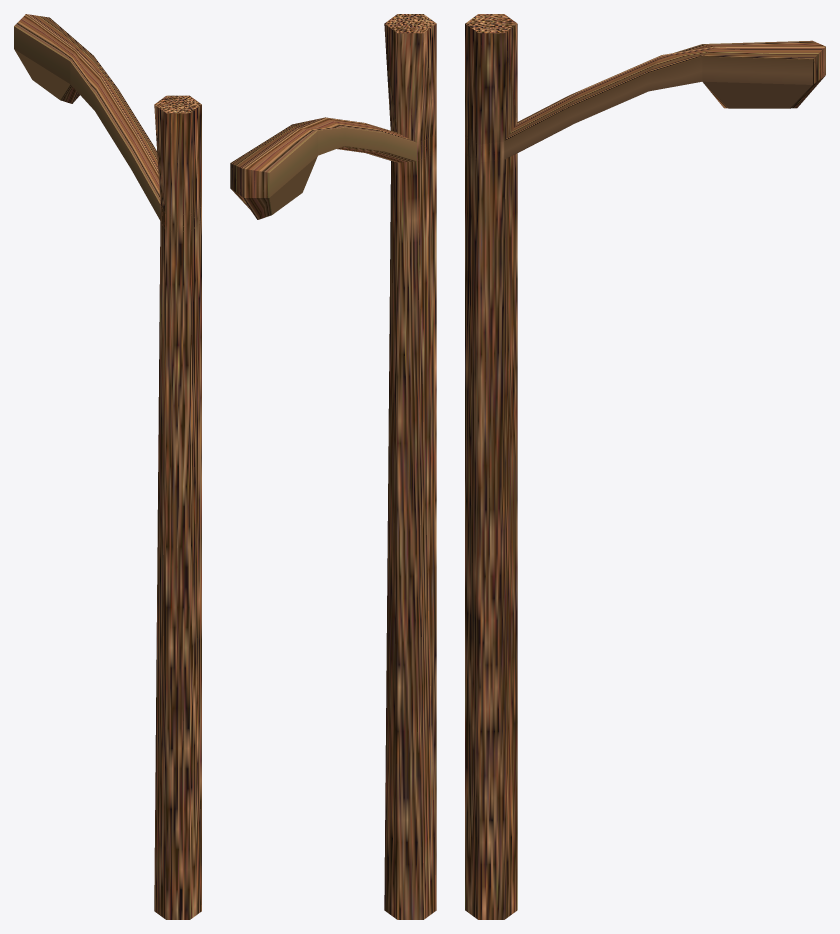
Rendered from Streetlight.glb.
3 views of the same model, side by side, from view 1: azimuth 30°, elevation 25°; view 2: azimuth 150°, elevation 25°; view 3: azimuth 270°, elevation 25° (orthographic). The views are drawn at different scales.
Parts seen in each view (by area): view 1: Street Light; view 2: Street Light; view 3: Street Light.
Boxes of the visible parts, x1,y1,x2,y2 form: Street Light: [14, 14, 201, 919]; Street Light: [230, 14, 436, 919]; Street Light: [465, 14, 825, 919].
Bounding box in the file's own units: 0.3356 × 7.24 × 2.67.
Materials: 1 (1 with a texture image).
